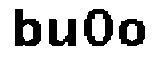0: (81, 6, 115, 50)
b: (11, 7, 44, 50)
o: (117, 17, 150, 51)
u: (48, 14, 81, 50)
